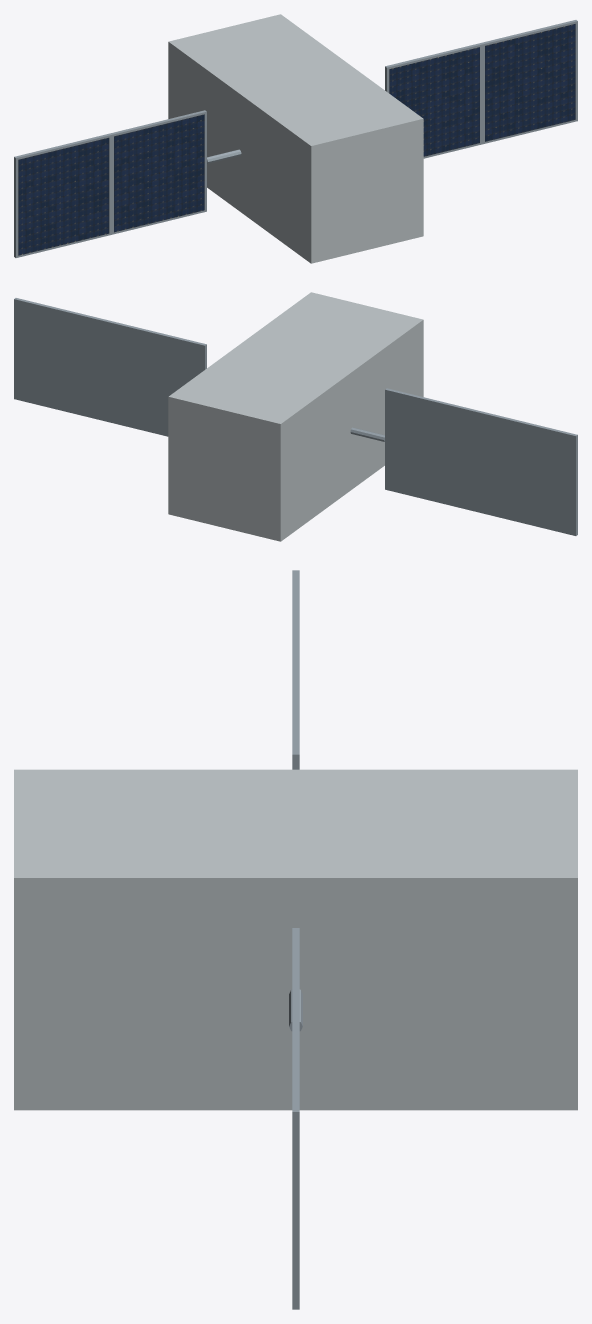
File: ref-fy-3-32958.glb
The picture shows the model from 3 angles, top to bottom: view 1: azimuth 30°, elevation 25°; view 2: azimuth 150°, elevation 25°; view 3: azimuth 270°, elevation 25°; orthographic projection. The views are drawn at different scales.
Visible parts, largest first — view 1: Spacecraft body, Photovoltaic laminates (×4), Array frame (×4); view 2: Spacecraft body, Array frame (×4); view 3: Spacecraft body, Array frame.
Boxes of the visible parts, <box> form: Spacecraft body: <box>168,14,423,263</box>; Photovoltaic laminates (×4): <box>18,24,575,255</box>; Array frame (×4): <box>14,20,577,257</box>; Spacecraft body: <box>168,292,423,541</box>; Array frame (×4): <box>14,298,577,535</box>; Spacecraft body: <box>14,769,577,1110</box>; Array frame: <box>292,1020,299,1309</box>.
Size of the model in its own units: 10 by 2 by 4.4.
Materials: 3 (1 with a texture image).
